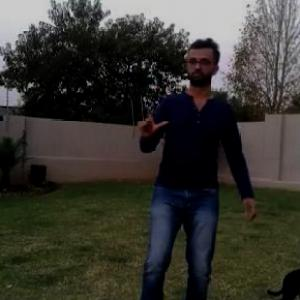land_hand: (136, 101, 172, 142)
